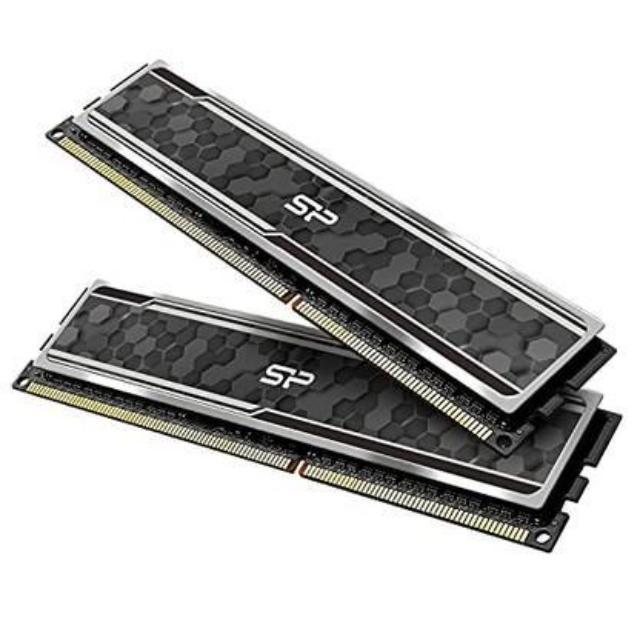RAM: (17, 54, 626, 557)
